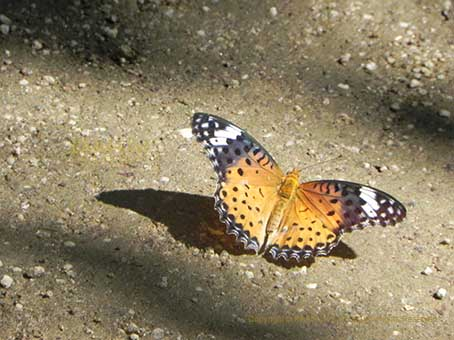Argyreus hyperbius: (183, 109, 412, 258)
butterfly: (185, 111, 414, 260)
